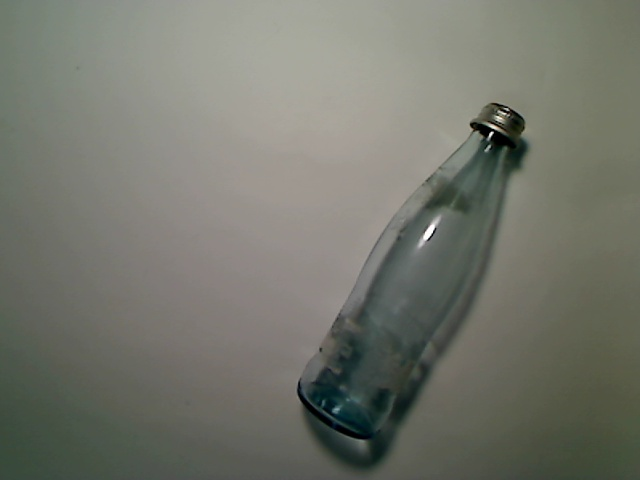bottle: (296, 101, 527, 438)
